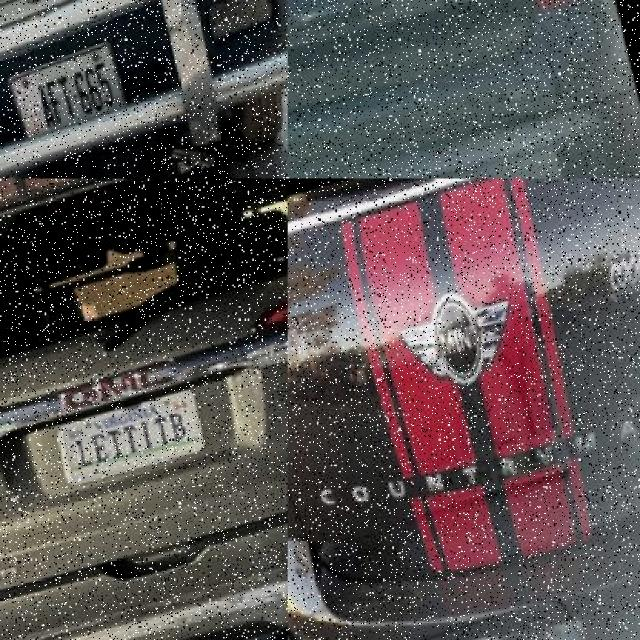licenseplate: (56, 395, 206, 490), (5, 45, 129, 152), (288, 0, 350, 63)
